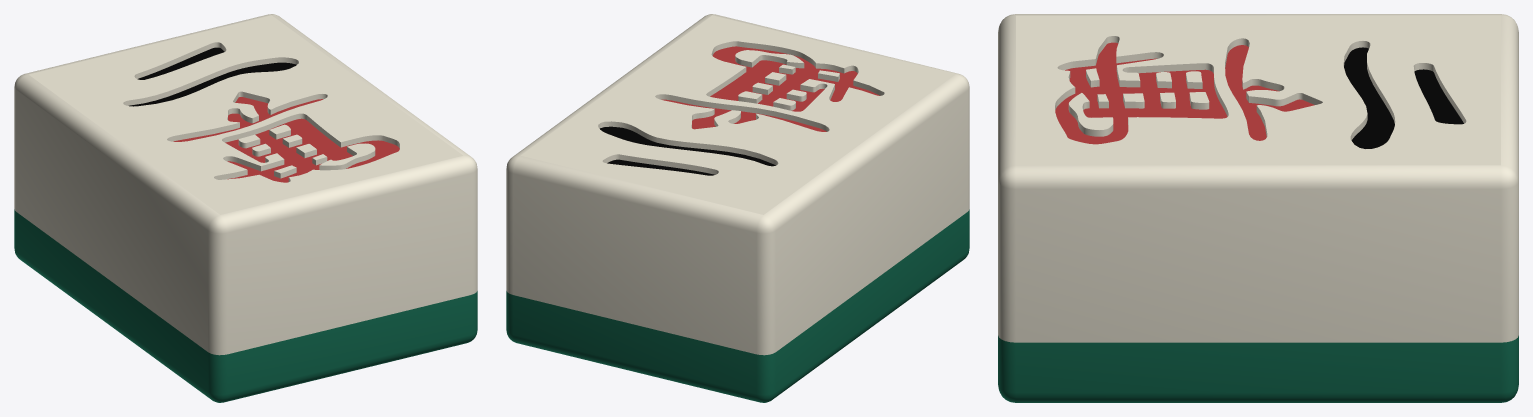
The model's file is Man2.glb.
3 renders of one model, left to right at view 1: azimuth 30°, elevation 25°; view 2: azimuth 150°, elevation 25°; view 3: azimuth 270°, elevation 25°, orthographic. The views are drawn at different scales.
Visible parts, largest first — view 1: Man2_body, Man2_inset; view 2: Man2_body, Man2_inset; view 3: Man2_body, Man2_inset.
Boxes of the visible parts, bbox=[...] form: Man2_body: bbox=[14, 14, 477, 402]; Man2_inset: bbox=[129, 47, 399, 182]; Man2_body: bbox=[506, 14, 969, 402]; Man2_inset: bbox=[600, 46, 879, 175]; Man2_body: bbox=[998, 14, 1518, 402]; Man2_inset: bbox=[1055, 42, 1463, 148].
Bounding box in the file's own units: 0.024 × 0.016 × 0.032.
